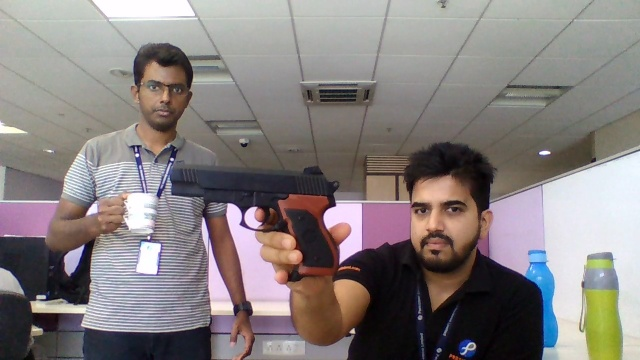gun: (169, 160, 337, 230)
